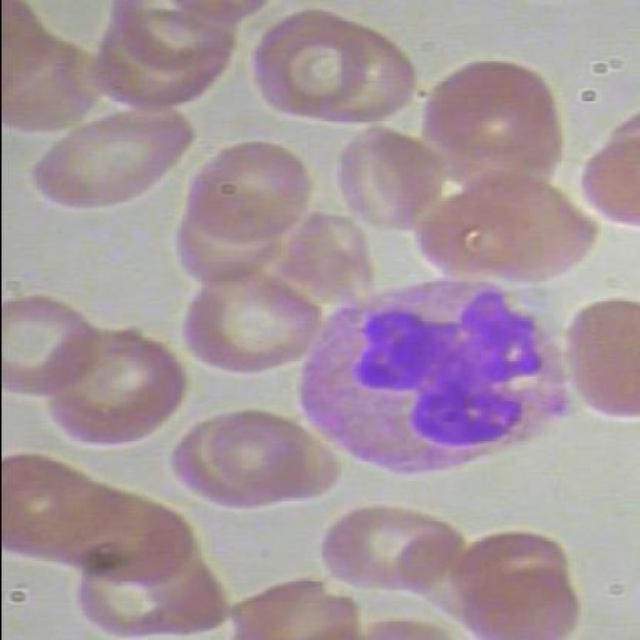RBC: (29, 319, 189, 450), (22, 94, 201, 211), (178, 268, 325, 382), (310, 496, 468, 598), (252, 9, 381, 123), (199, 408, 339, 507), (182, 135, 310, 239), (330, 123, 438, 240), (86, 0, 247, 75), (0, 288, 102, 401), (560, 293, 638, 432)
WBC: (294, 269, 577, 482)
